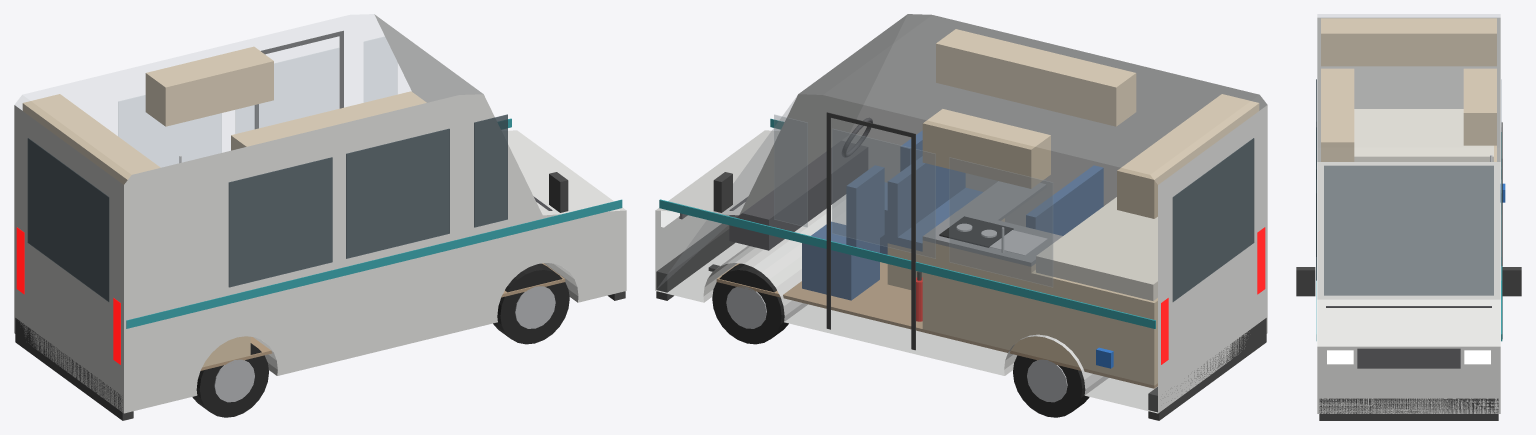
The model's file is force_traveller_3050wb.glb.
The picture shows the model from 3 angles, left to right: view 1: azimuth 30°, elevation 25°; view 2: azimuth 150°, elevation 25°; view 3: azimuth 270°, elevation 25°; orthographic projection. The views are drawn at different scales.
Visible parts, largest first — view 1: Body_Shell, Body_Cutaway_LeftWall_Roof, Window_Right_1, Window_Right_0, Window_Rear, Storage_Overhead_Left_Kitchen, Window_Left_0, Storage_Overhead_Rear, Stripe_Right, Window_Left_1, Window_Cab_Right, Storage_Overhead_Right (+10 smaller); view 2: Body_Cutaway_LeftWall_Roof, Body_Shell, Storage_Overhead_Right, Window_Left_1, Window_Left_0, Bed_Platform_Fixed_Rear, Kitchen_Base_Cabinets, Window_Rear, Bed_Mattress_Double, Storage_Overhead_Left_Kitchen, Storage_Overhead_Rear, Dashboard (+23 smaller); view 3: Body_Shell, Body_Cutaway_LeftWall_Roof, Windscreen, Storage_Overhead_Rear, Bed_Mattress_Double, Bumper_Front, Storage_Overhead_Right, Storage_Overhead_Left_Kitchen, Grille, Mirror_L, Mirror_R, Headlamp_L (+4 smaller).
Part boxes in pixels (box(x1,y1,x2,y2)): Body_Shell: box(14, 14, 626, 413); Body_Cutaway_LeftWall_Roof: box(15, 14, 481, 183); Window_Right_1: box(228, 157, 332, 287); Window_Right_0: box(346, 128, 449, 258); Window_Rear: box(27, 138, 109, 301); Storage_Overhead_Left_Kitchen: box(145, 46, 273, 126); Window_Left_0: box(235, 48, 338, 133); Storage_Overhead_Rear: box(22, 94, 160, 184); Stripe_Right: box(126, 199, 622, 328); Window_Left_1: box(118, 95, 221, 167); Window_Cab_Right: box(474, 114, 507, 227); Storage_Overhead_Right: box(231, 91, 426, 150); Body_Cutaway_LeftWall_Roof: box(656, 14, 1266, 412); Body_Shell: box(655, 14, 1267, 413); Storage_Overhead_Right: box(936, 29, 1136, 126); Window_Left_1: box(949, 157, 1052, 287); Window_Left_0: box(832, 129, 935, 258); Bed_Platform_Fixed_Rear: box(1031, 270, 1157, 385); Kitchen_Base_Cabinets: box(922, 240, 1035, 355); Window_Rear: box(1172, 138, 1254, 301); Bed_Mattress_Double: box(1036, 197, 1157, 300); Storage_Overhead_Left_Kitchen: box(922, 109, 1050, 188); Storage_Overhead_Rear: box(1117, 94, 1259, 218); Dashboard: box(729, 140, 868, 250); Body_Shell: box(1317, 17, 1500, 413); Body_Cutaway_LeftWall_Roof: box(1317, 14, 1500, 161); Windscreen: box(1324, 165, 1493, 295); Storage_Overhead_Rear: box(1321, 18, 1496, 66); Bed_Mattress_Double: box(1354, 109, 1493, 161); Bumper_Front: box(1319, 398, 1498, 420); Storage_Overhead_Right: box(1321, 68, 1354, 161); Storage_Overhead_Left_Kitchen: box(1463, 68, 1496, 145); Grille: box(1357, 348, 1460, 368); Mirror_L: box(1502, 267, 1521, 296); Mirror_R: box(1296, 267, 1315, 296); Headlamp_L: box(1464, 350, 1490, 364).
Bounding box in the file's own units: 5.11 × 2.62 × 2.37.
